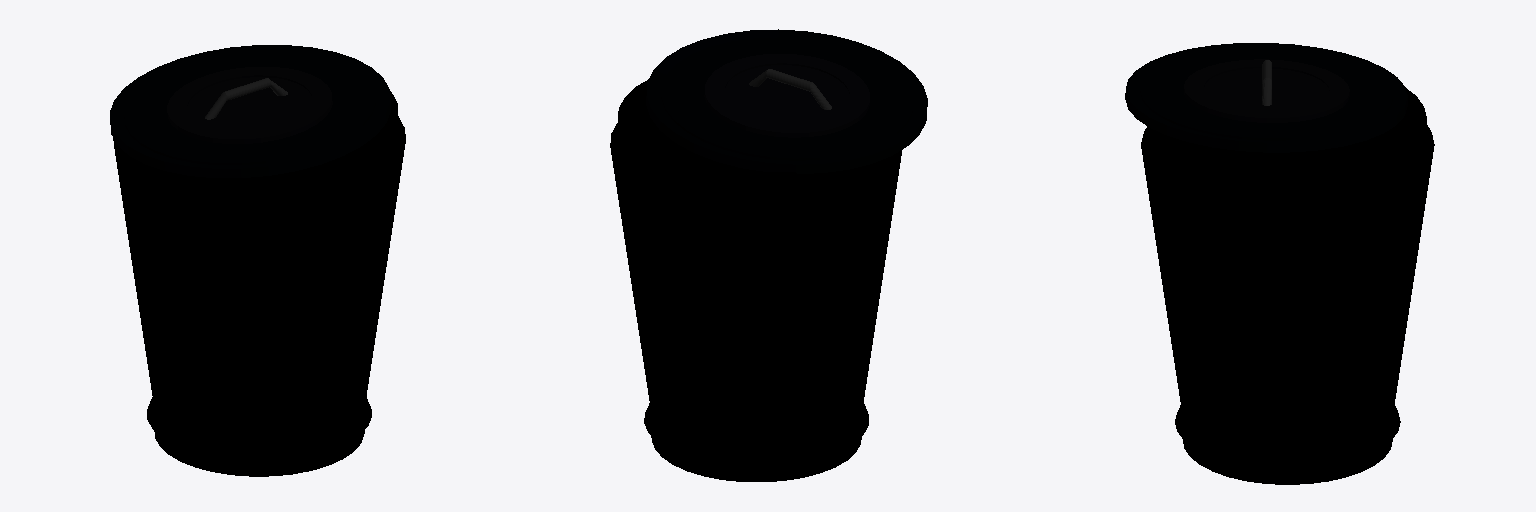
The model's file is 垃圾桶official.obj.
3 renders of one model, left to right at view 1: azimuth 30°, elevation 25°; view 2: azimuth 150°, elevation 25°; view 3: azimuth 270°, elevation 25°, orthographic.
Visible parts, largest first — view 1: 垃圾桶主体, 垃圾桶盖1, 垃圾桶盖2, 垃圾桶盖把手; view 2: 垃圾桶主体, 垃圾桶盖1, 垃圾桶盖2, 垃圾桶盖把手; view 3: 垃圾桶主体, 垃圾桶盖1, 垃圾桶盖2.
Part boxes in pixels (x1,y1,x2,y2): 垃圾桶主体: (113, 91, 405, 476); 垃圾桶盖1: (110, 45, 390, 177); 垃圾桶盖2: (167, 67, 332, 143); 垃圾桶盖把手: (205, 78, 287, 119); 垃圾桶主体: (610, 79, 901, 481); 垃圾桶盖1: (646, 29, 927, 173); 垃圾桶盖2: (704, 54, 869, 137); 垃圾桶盖把手: (749, 69, 831, 109); 垃圾桶主体: (1141, 87, 1434, 484); 垃圾桶盖1: (1125, 43, 1407, 152); 垃圾桶盖2: (1184, 59, 1349, 122).
Size of the model in its own units: 3.67 by 4.71 by 3.65.